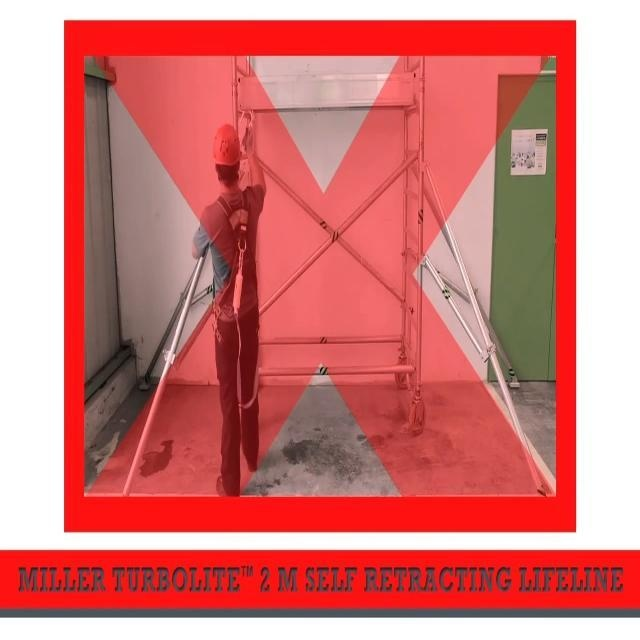Arnes_seguridad: (210, 166, 260, 365)
